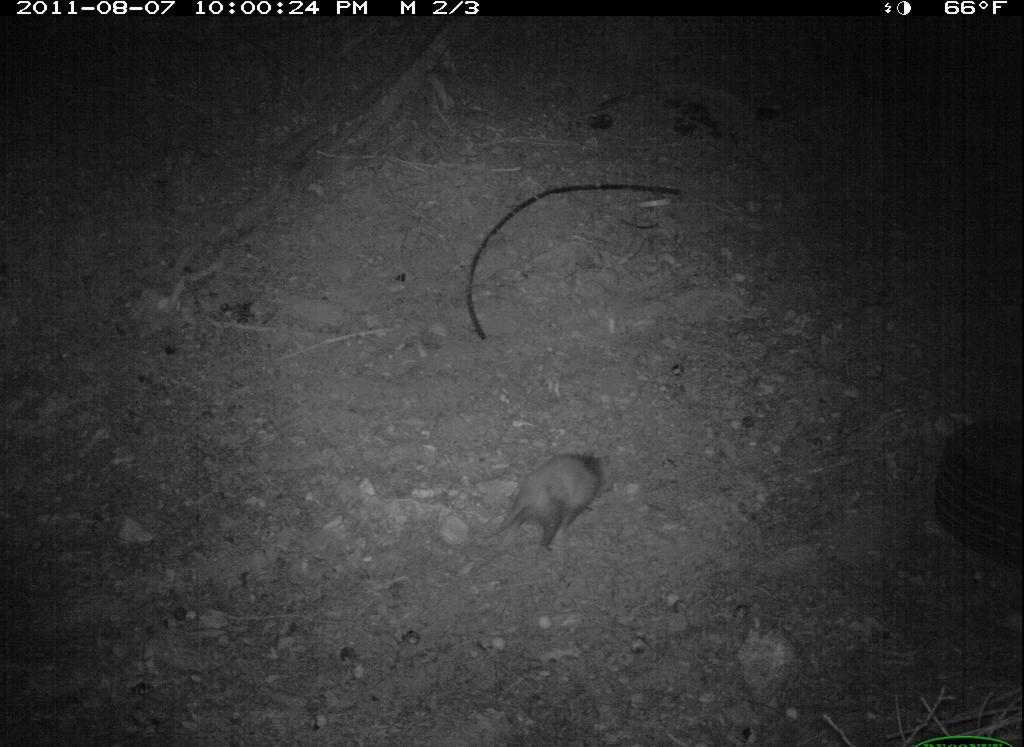opossum: (472, 439, 624, 569)
